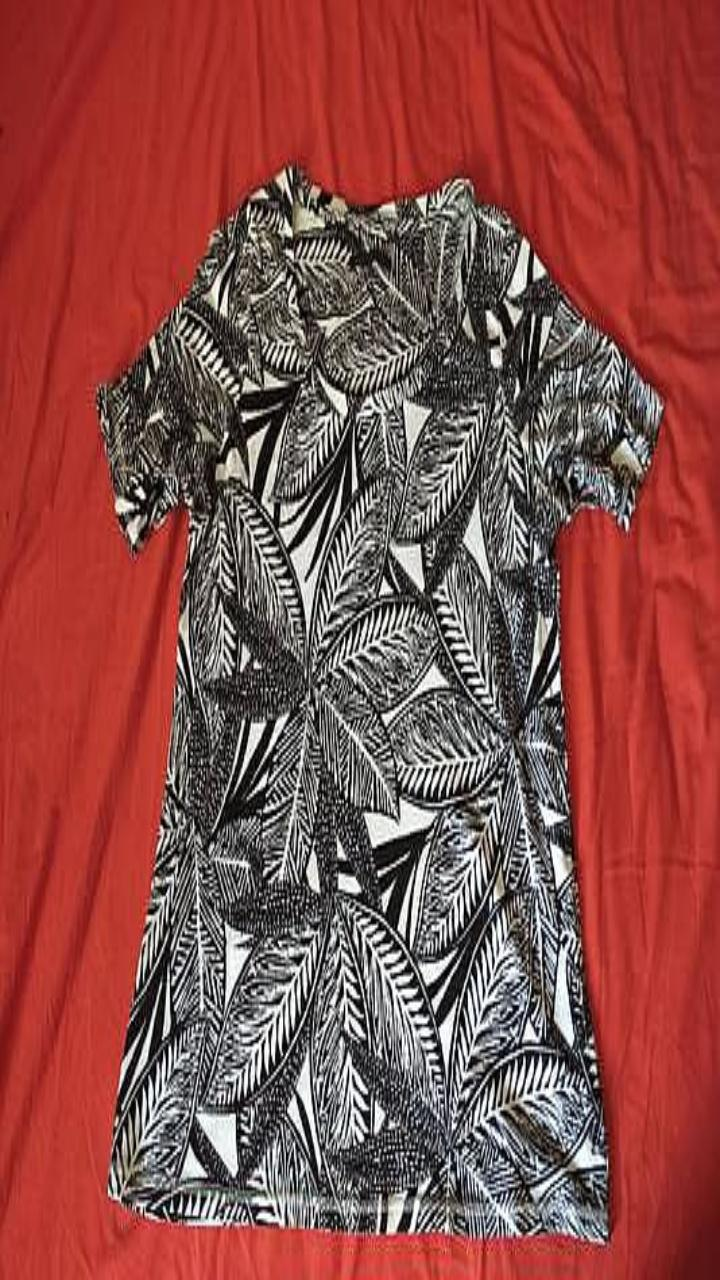T-Shirt: (96, 163, 662, 1240)
